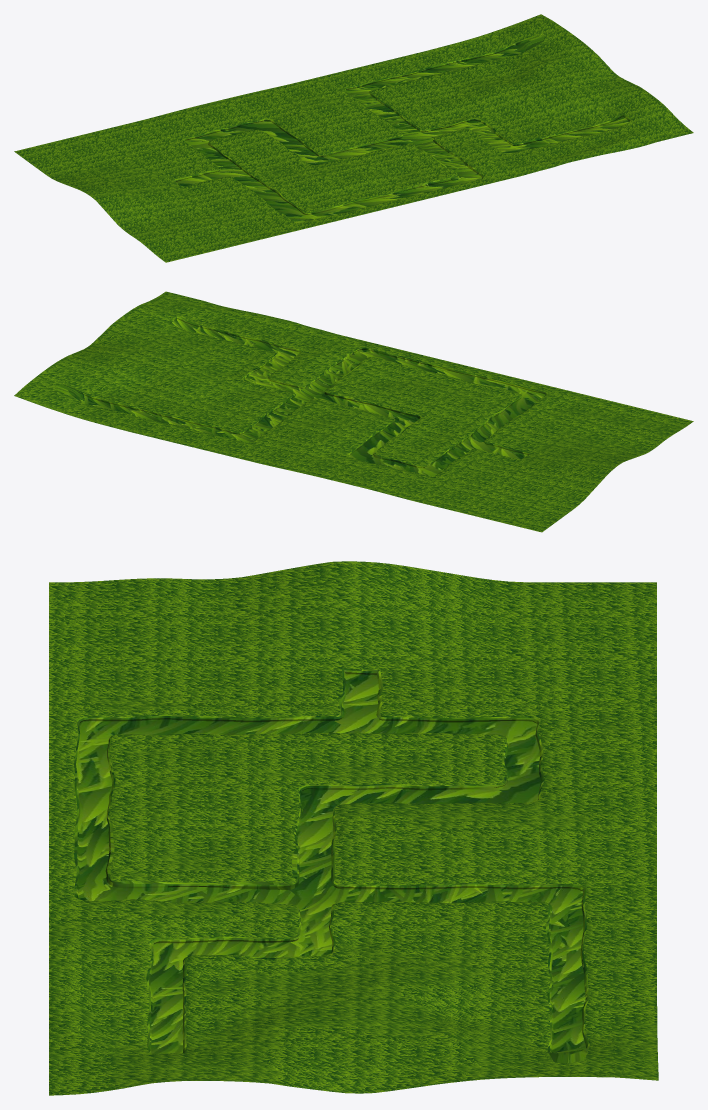
File: lvl (2).fbx
The picture shows the model from 3 angles, top to bottom: view 1: azimuth 30°, elevation 25°; view 2: azimuth 150°, elevation 25°; view 3: azimuth 270°, elevation 25°; orthographic projection. The views are drawn at different scales.
Visible parts, largest first — view 1: Earz; view 2: Earz; view 3: Earz.
Boxes of the visible parts, left/top/right/bottom form: Earz: left=14, top=14, right=693, bottom=262; Earz: left=14, top=291, right=693, bottom=532; Earz: left=49, top=561, right=658, bottom=1095.
Bounding box in the file's own units: 40171 × 1117 × 20038.
Materials: 2 (2 with a texture image).
